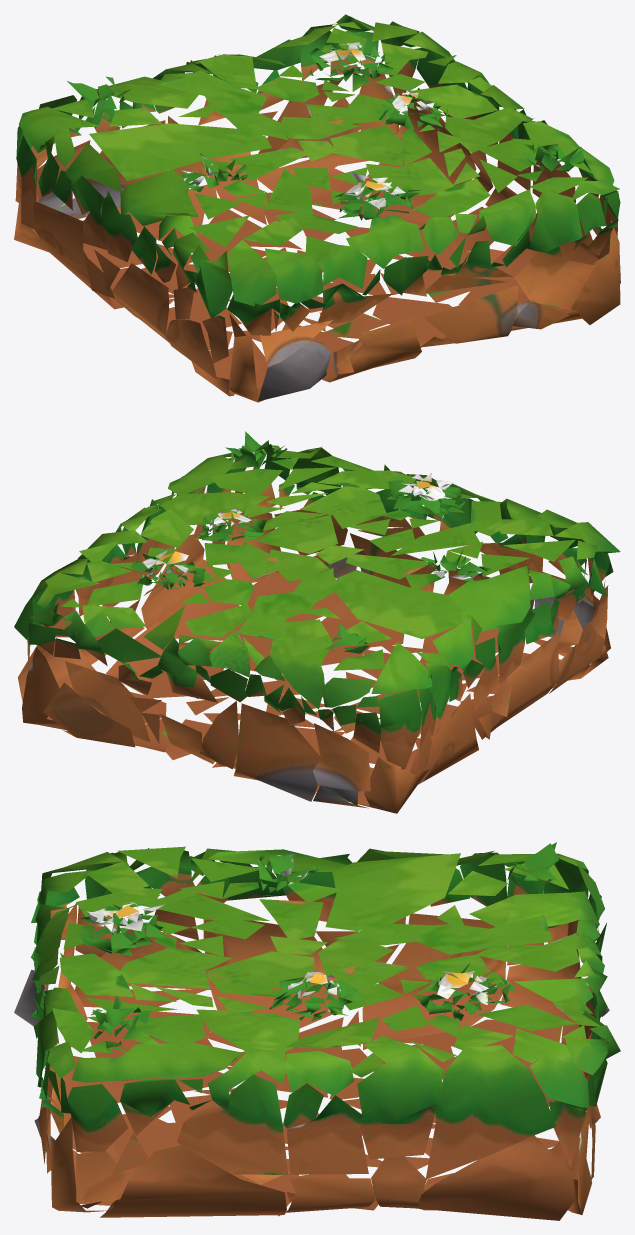
File: grass.glb
The picture shows the model from 3 angles, top to bottom: view 1: azimuth 30°, elevation 25°; view 2: azimuth 150°, elevation 25°; view 3: azimuth 270°, elevation 25°; orthographic projection. The views are drawn at different scales.
Visible parts, largest first — view 1: Mesh_0; view 2: Mesh_0; view 3: Mesh_0.
Boxes of the visible parts, box(x1,y1,x2,y2) form: Mesh_0: box(14, 14, 620, 402); Mesh_0: box(14, 431, 620, 813); Mesh_0: box(14, 842, 620, 1220).
Bounding box in the file's own units: 1.78 × 0.6968 × 1.93.
Materials: 1 (1 with a texture image).
